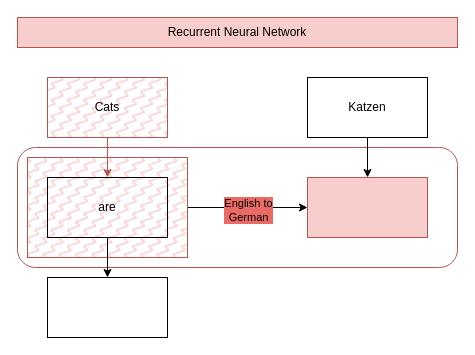
Image size: 475x355. Some labels were removed from this diagram. The shapes that lost their labels are listed below. From the top down, each one's centre as x and y in pixels, then its label:
the point at 367,207: sind
the point at 107,307: cool
